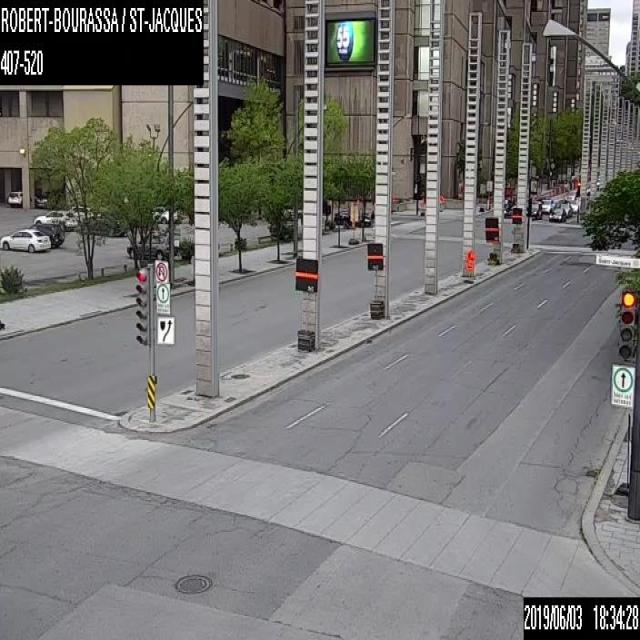construction: (463, 248, 472, 280)
vehicle: (126, 230, 177, 259), (0, 228, 50, 252), (80, 212, 126, 235), (28, 222, 64, 246), (34, 210, 78, 229), (333, 207, 370, 227), (150, 205, 181, 222), (6, 191, 36, 207), (37, 191, 56, 209), (503, 200, 517, 219), (547, 208, 565, 220), (540, 198, 555, 212), (529, 201, 541, 218), (561, 202, 573, 216)
